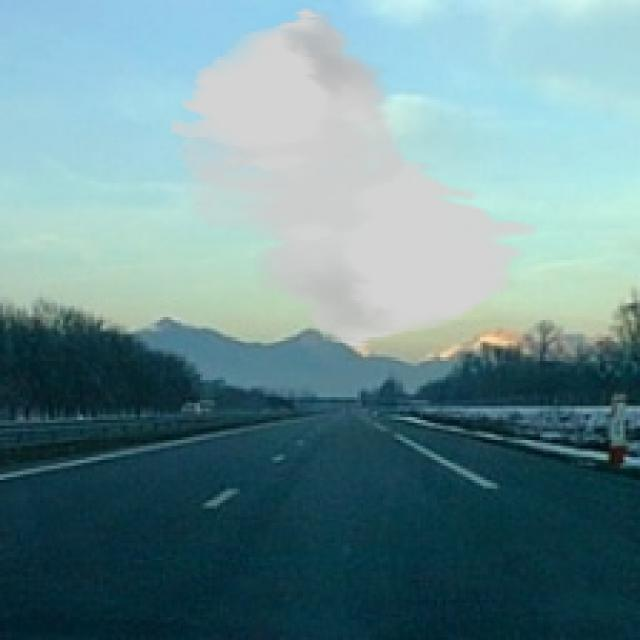Smoke: (168, 6, 538, 348)
